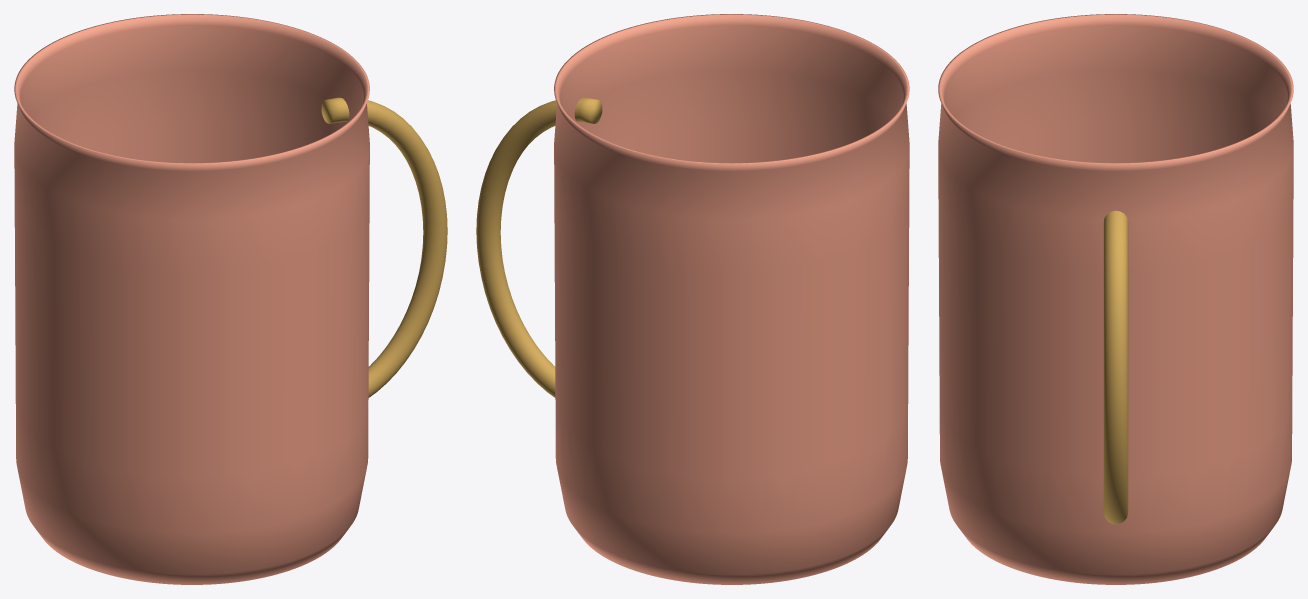
The picture shows the model from 3 angles, left to right: view 1: azimuth 30°, elevation 25°; view 2: azimuth 150°, elevation 25°; view 3: azimuth 270°, elevation 25°; orthographic projection.
Parts seen in each view (by area): view 1: body; view 2: body; view 3: body.
Part boxes in pixels (x1=…): body: x1=14, y1=14, x2=447, y2=584; body: x1=476, y1=14, x2=909, y2=584; body: x1=938, y1=14, x2=1293, y2=584.
Size of the model in its own units: 0.1011 by 0.1018 by 0.0764.
